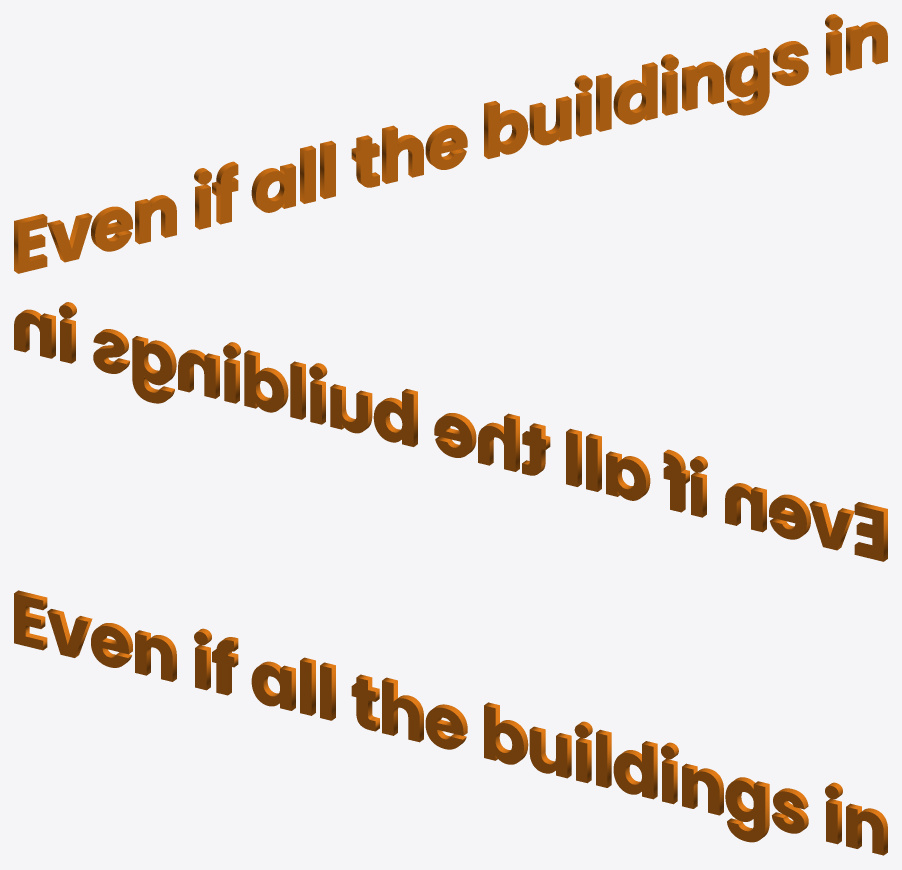
Rendered from yazi1.gltf.
The picture shows the model from 3 angles, top to bottom: view 1: azimuth 30°, elevation 25°; view 2: azimuth 150°, elevation 25°; view 3: azimuth 330°, elevation 25°; orthographic projection.
Visible parts, largest first — view 1: Text.065; view 2: Text.065; view 3: Text.065.
Part boxes in pixels (x1,y1,x2,y2): Text.065: [14, 14, 887, 273]; Text.065: [14, 302, 887, 561]; Text.065: [14, 590, 887, 855].
Bounding box in the file's own units: 0.5179 × 0.0435 × 0.00435.
